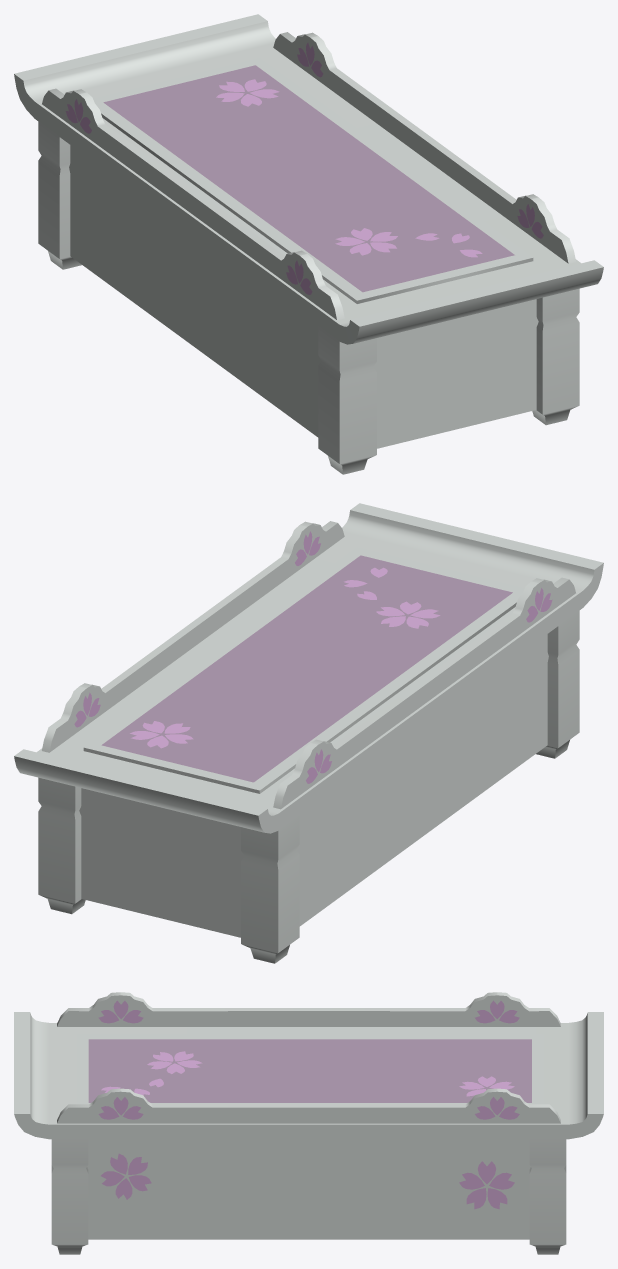
3 views of the same model, one above another, from view 1: azimuth 30°, elevation 25°; view 2: azimuth 150°, elevation 25°; view 3: azimuth 270°, elevation 25° (orthographic). The views are drawn at different scales.
Visible parts, largest first — view 1: G:\FFXIV-MapTools\exports\e3ec\bg\ex2\02_est_e3\evt\e3ec\bgp (×6); view 2: G:\FFXIV-MapTools\exports\e3ec\bg\ex2\02_est_e3\evt\e3ec\bgp (×6); view 3: G:\FFXIV-MapTools\exports\e3ec\bg\ex2\02_est_e3\evt\e3ec\bgp (×6).
Part boxes in pixels (left/top/right/bottom): G:\FFXIV-MapTools\exports\e3ec\bg\ex2\02_est_e3\evt\e3ec\bgp (×6): left=14, top=14, right=603, bottom=474; G:\FFXIV-MapTools\exports\e3ec\bg\ex2\02_est_e3\evt\e3ec\bgp (×6): left=14, top=503, right=603, bottom=963; G:\FFXIV-MapTools\exports\e3ec\bg\ex2\02_est_e3\evt\e3ec\bgp (×6): left=14, top=992, right=603, bottom=1254.
Bounding box in the file's own units: 1.22 × 0.9265 × 2.98.
